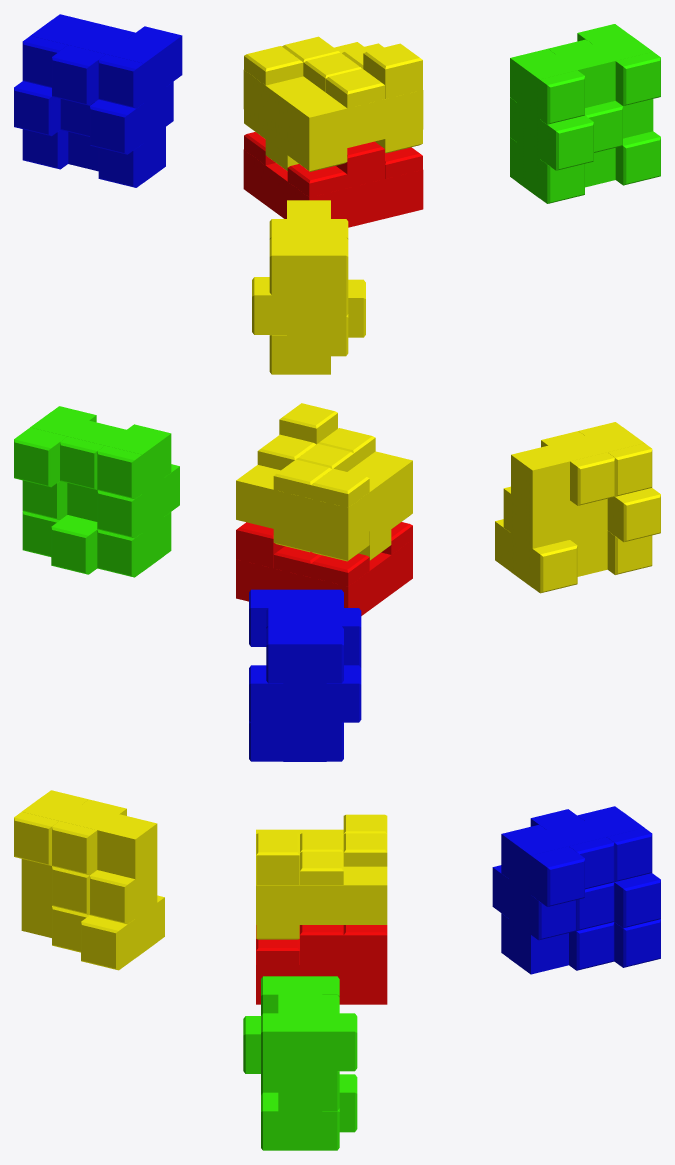
File: stage_2.obj
3 renders of one model, top to bottom at view 1: azimuth 30°, elevation 25°; view 2: azimuth 150°, elevation 25°; view 3: azimuth 270°, elevation 25°, orthographic.
Parts seen in each view (by area): view 1: object_2, object_1, object_5, object_3, object_4; view 2: object_1, object_3, object_5, object_2, object_4; view 3: object_2, object_3, object_1, object_5, object_4.
Part boxes in pixels (x1,y1,x2,y2): object_2: (14, 14, 182, 187); object_1: (510, 24, 660, 203); object_5: (243, 36, 423, 171); object_3: (252, 200, 365, 374); object_4: (243, 132, 423, 227); object_1: (14, 406, 179, 577); object_3: (495, 422, 660, 593); object_5: (236, 403, 412, 561); object_2: (249, 589, 361, 761); object_4: (236, 522, 412, 615); object_2: (492, 806, 660, 974); object_3: (14, 790, 164, 970); object_1: (243, 976, 357, 1150); object_5: (256, 814, 387, 939); object_4: (256, 925, 387, 1004).
Bounding box in the file's own units: 67.1 × 22.63 × 73.87.
